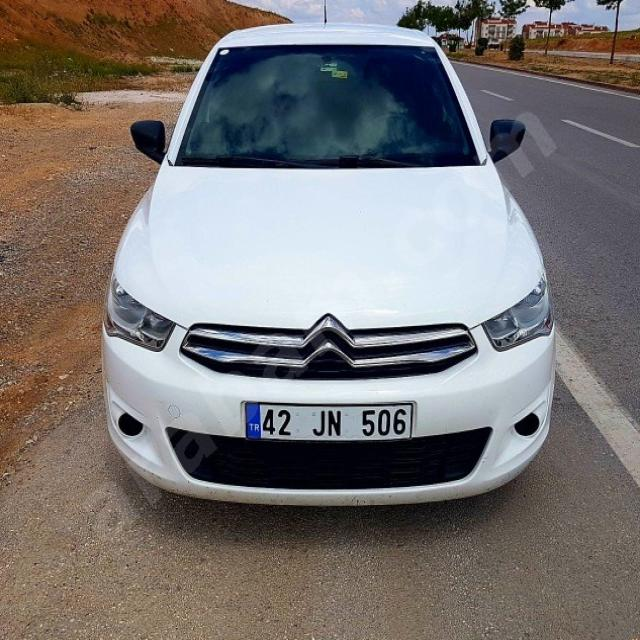license_plate: (244, 401, 414, 440)
